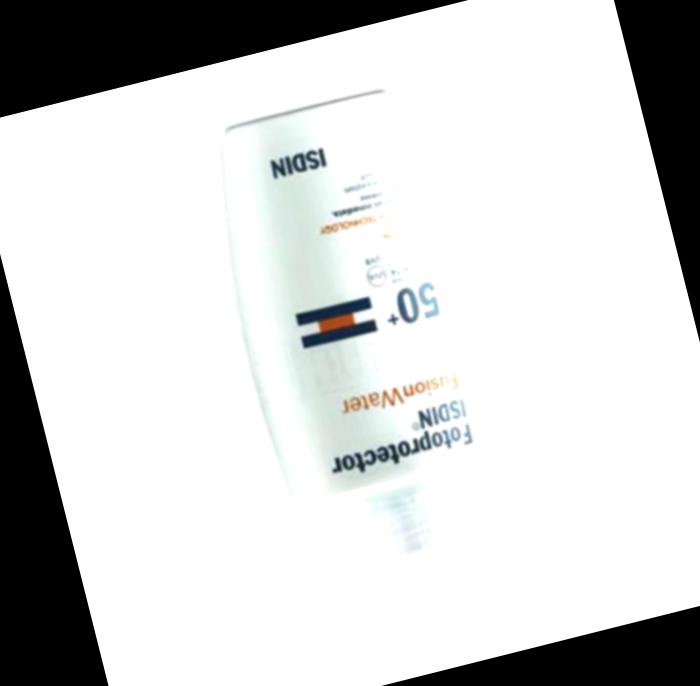cosmetic: (190, 77, 536, 627)
